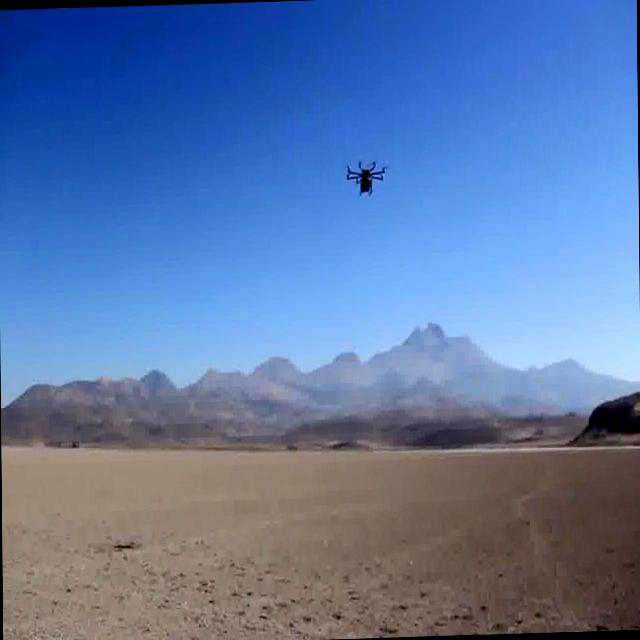drone: (343, 150, 390, 199)
